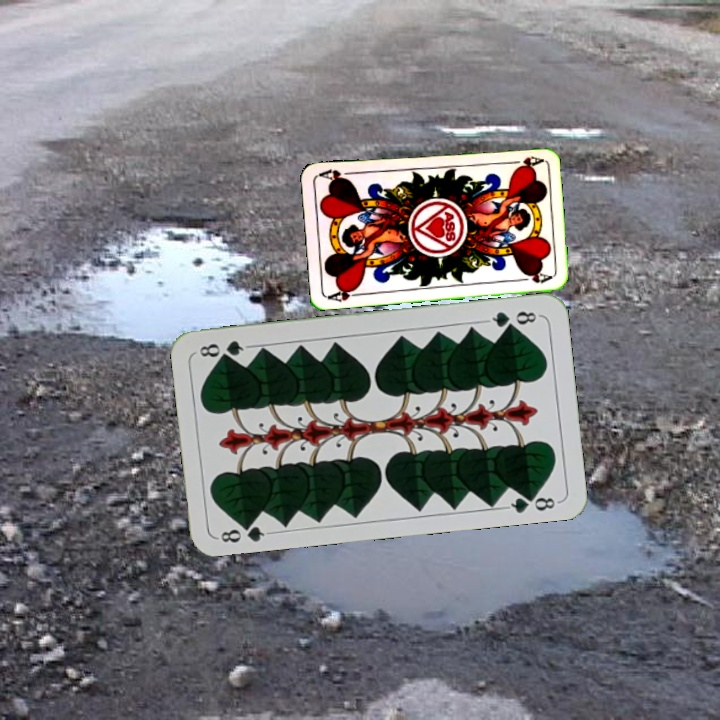G8: (214, 517, 273, 545), (483, 307, 542, 331)
HA: (325, 283, 365, 304), (503, 152, 544, 169)
